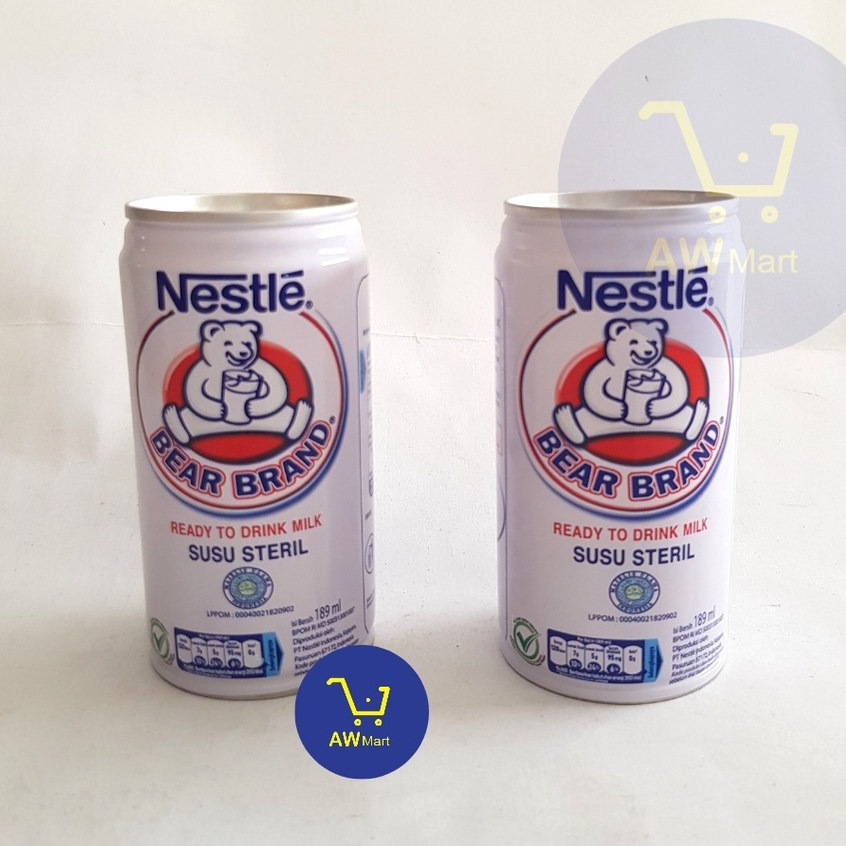Bear Brand Susu Steril (189ml): (92, 155, 391, 720), (475, 161, 749, 703)
